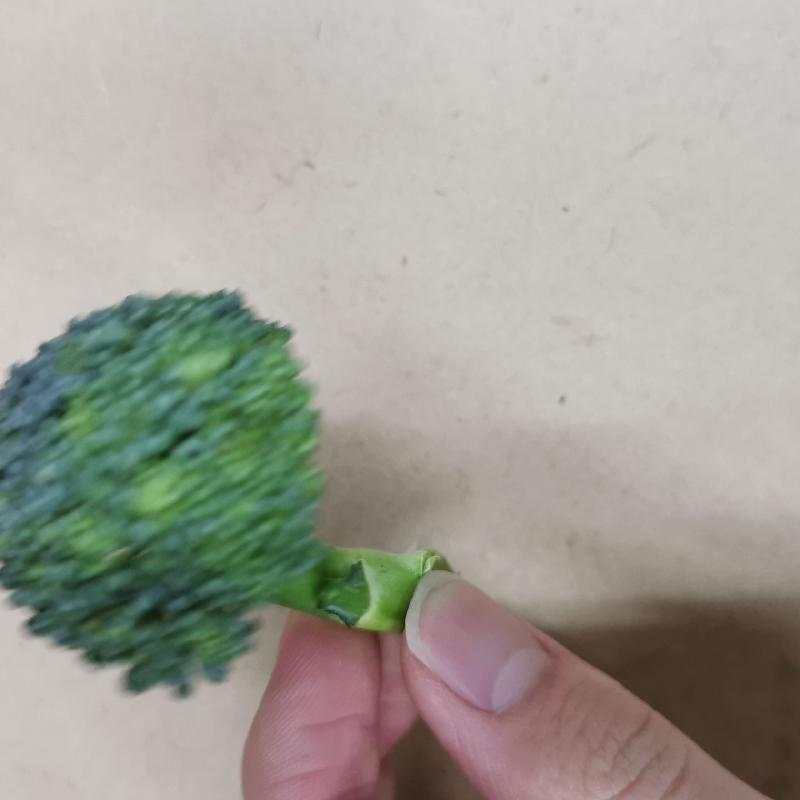broccoli: (8, 285, 462, 698)
